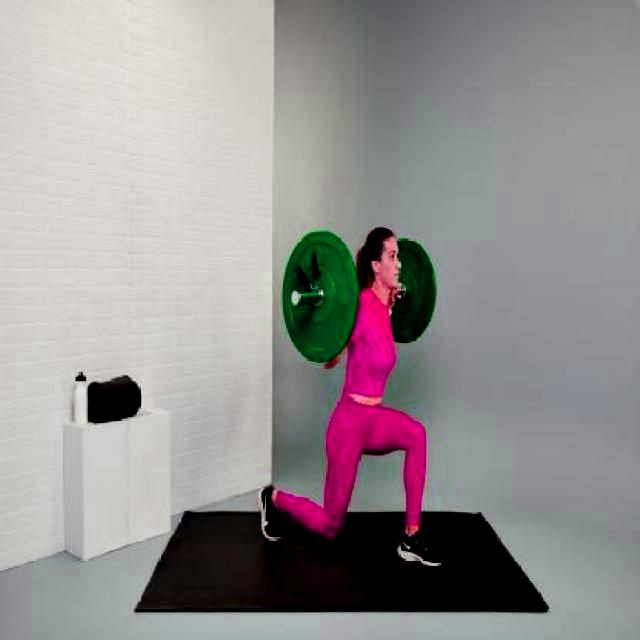barbell: (273, 228, 365, 367)
